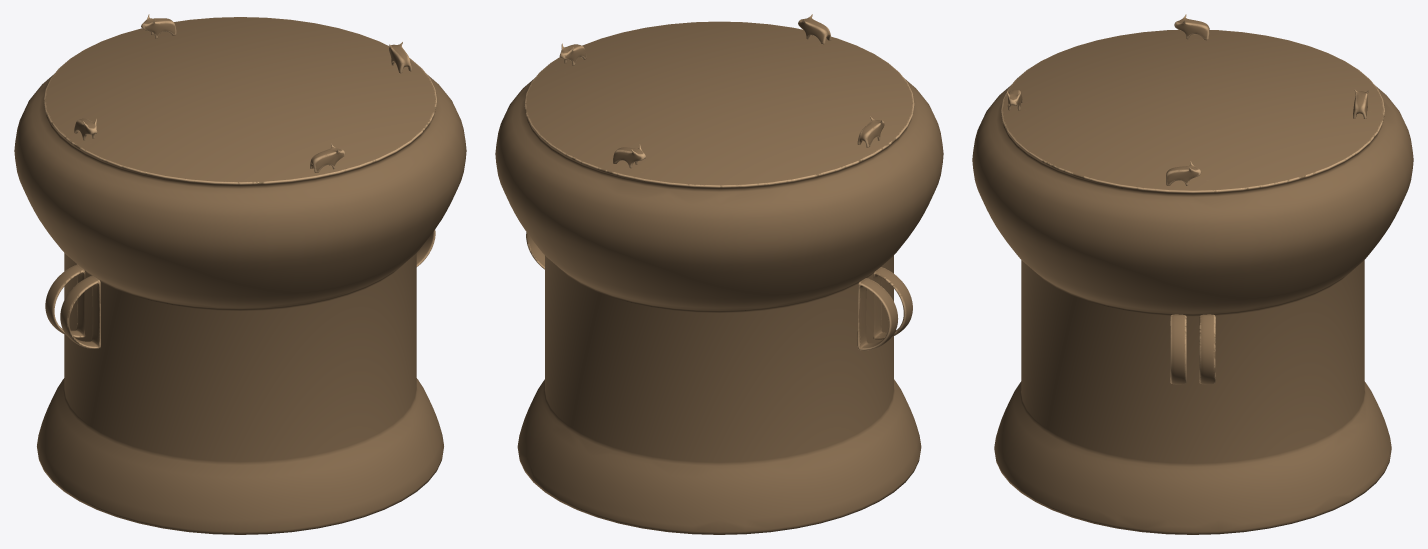
Rendered from vanlang8.glb.
The picture shows the model from 3 angles, left to right: view 1: azimuth 30°, elevation 25°; view 2: azimuth 150°, elevation 25°; view 3: azimuth 270°, elevation 25°; orthographic projection. The views are drawn at different scales.
Visible parts, largest first — view 1: Sphere001_trong dong_0; view 2: Sphere001_trong dong_0; view 3: Sphere001_trong dong_0.
Boxes of the visible parts, x1,y1,x2,y2 form: Sphere001_trong dong_0: [14, 14, 466, 534]; Sphere001_trong dong_0: [495, 14, 943, 534]; Sphere001_trong dong_0: [972, 14, 1413, 534].
Size of the model in its own units: 1.67 by 1.51 by 1.67.
Materials: 1 (1 with a texture image).
